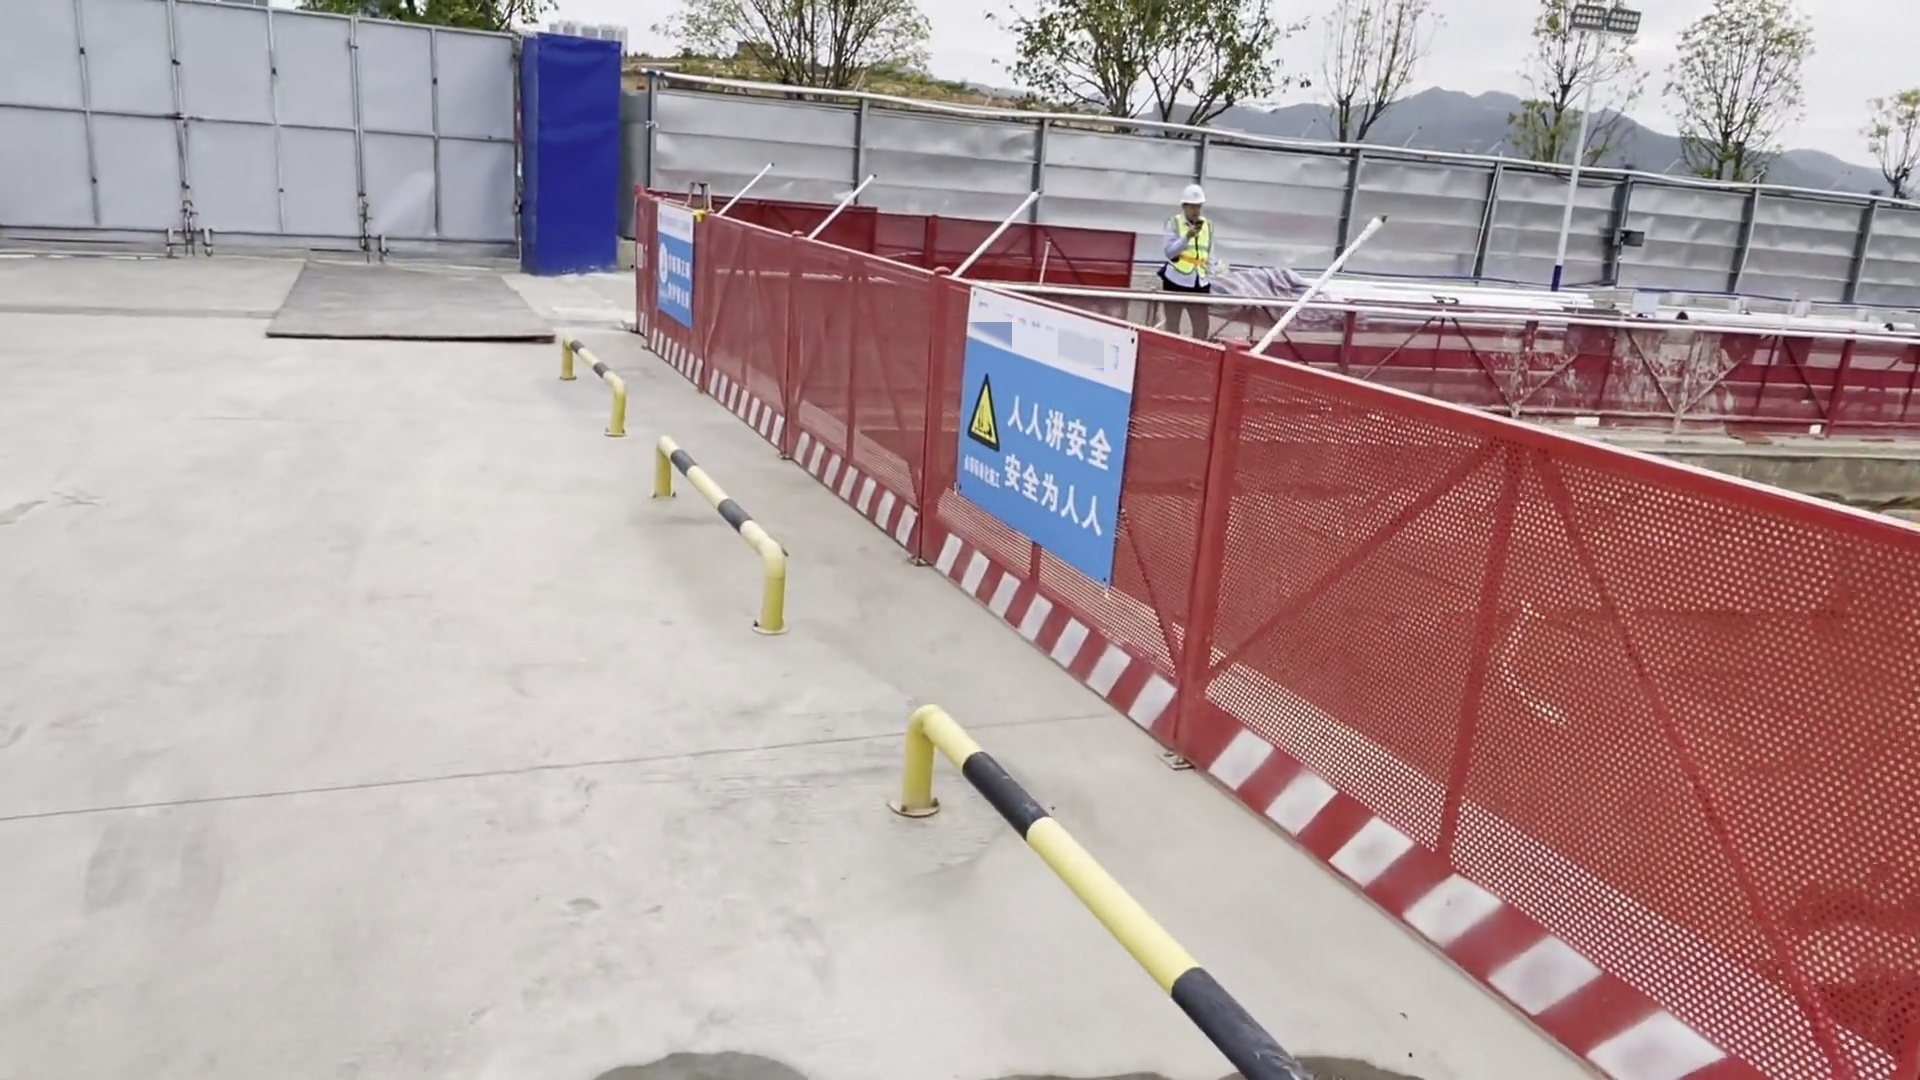fence: (1197, 343, 1920, 1073), (931, 216, 1205, 713), (635, 193, 931, 531)
helmet: (1183, 184, 1202, 205)
person: (1162, 182, 1214, 350)
slogan: (955, 292, 1129, 577), (650, 200, 692, 334)
vest: (1173, 215, 1210, 274)
